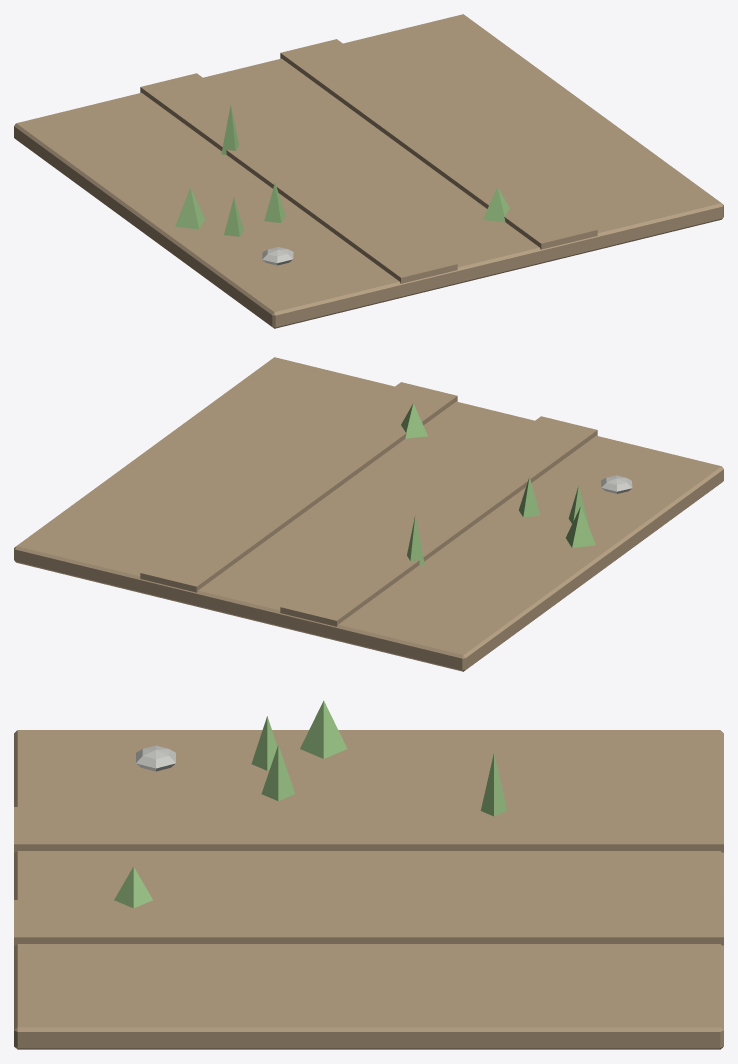
File: dirt-path-tile.glb
3 renders of one model, top to bottom at view 1: azimuth 30°, elevation 25°; view 2: azimuth 150°, elevation 25°; view 3: azimuth 270°, elevation 25°, orthographic. The views are drawn at different scales.
Parts seen in each view (by area): view 1: dirt-path-tile; view 2: dirt-path-tile; view 3: dirt-path-tile.
Part boxes in pixels (x1,y1,x2,y2): dirt-path-tile: (14, 14, 723, 328); dirt-path-tile: (14, 357, 723, 671); dirt-path-tile: (14, 700, 723, 1049).
Bounding box in the file's own units: 4 × 0.5432 × 4.
